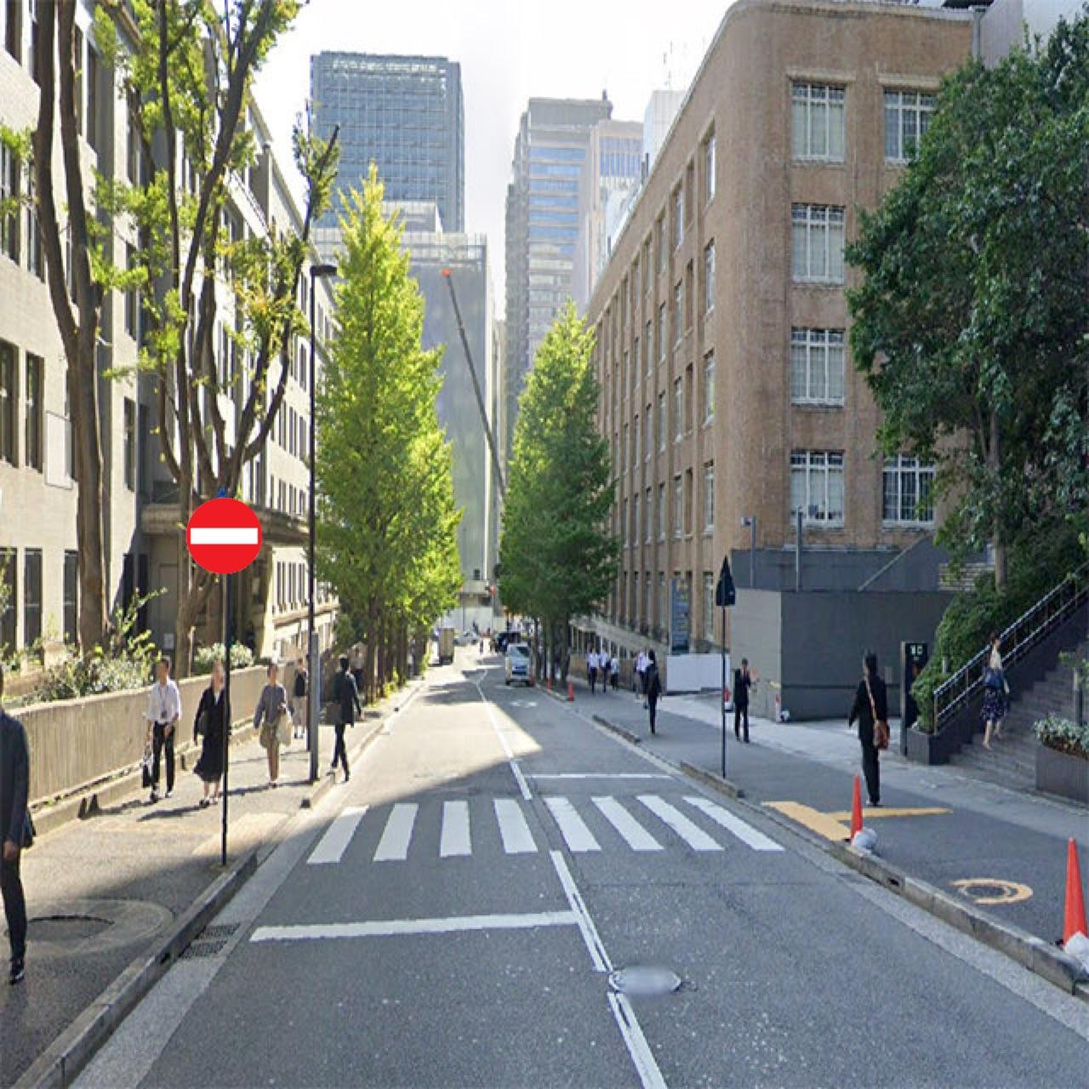barrier: (183, 498, 260, 575)
